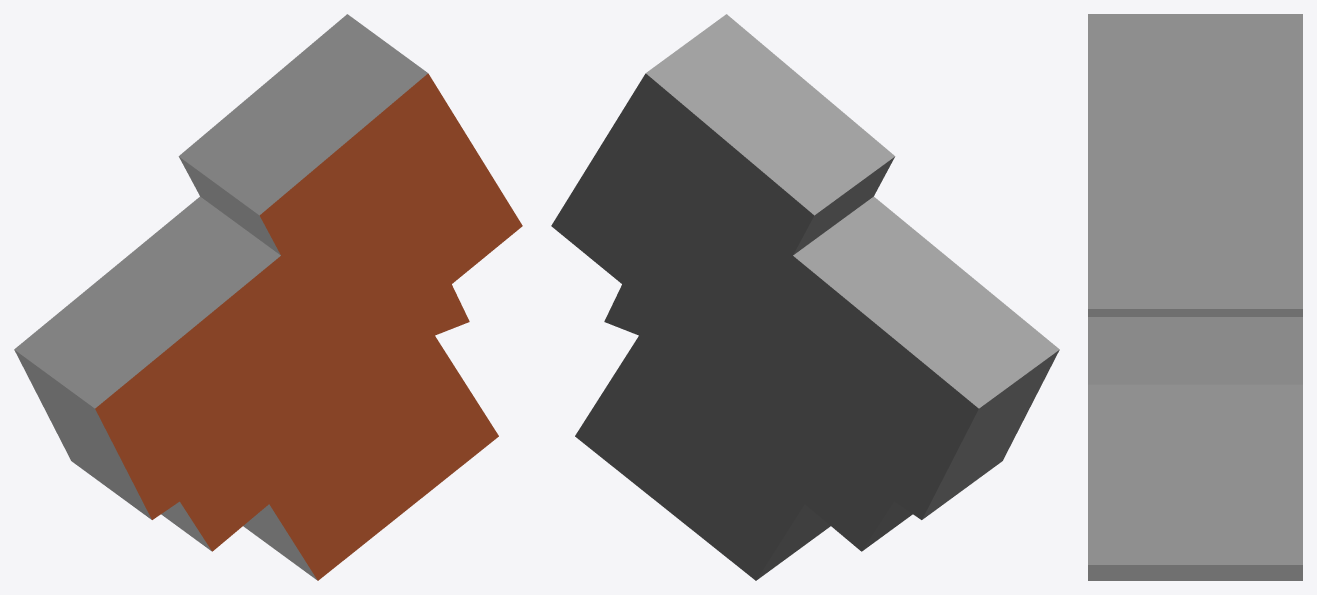
Rendered from construction_2459_assumed_A_Casa_h6m.obj.
3 renders of one model, left to right at view 1: azimuth 30°, elevation 25°; view 2: azimuth 150°, elevation 25°; view 3: azimuth 270°, elevation 25°, orthographic. The views are drawn at different scales.
Parts seen in each view (by area): view 1: construction_2459_assumed_A_Casa; view 2: construction_2459_assumed_A_Casa; view 3: construction_2459_assumed_A_Casa.
Part boxes in pixels (x1,y1,x2,y2): construction_2459_assumed_A_Casa: [14, 14, 522, 580]; construction_2459_assumed_A_Casa: [551, 14, 1059, 580]; construction_2459_assumed_A_Casa: [1088, 14, 1302, 580].
Bounding box in the file's own units: 18.32 × 19.67 × 6.
